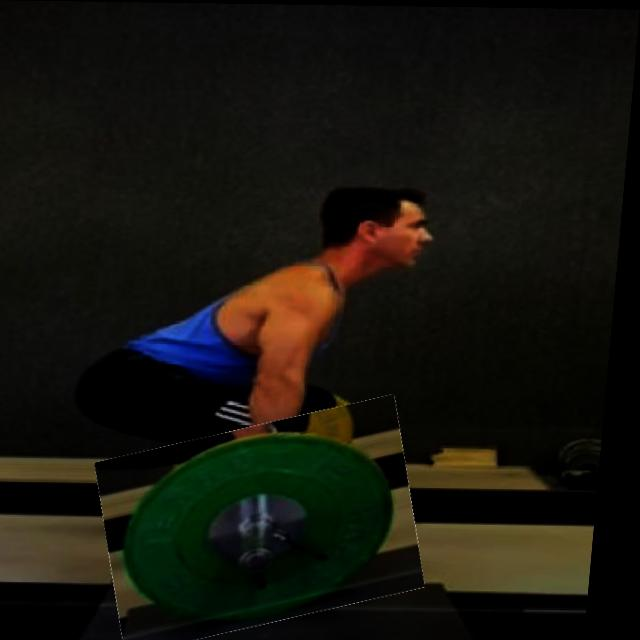barbell: (102, 408, 439, 640)
